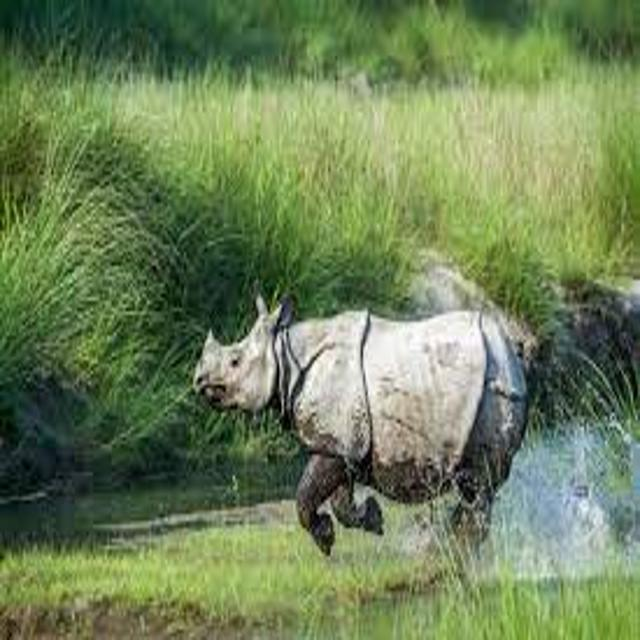rhino: (173, 280, 583, 586)
